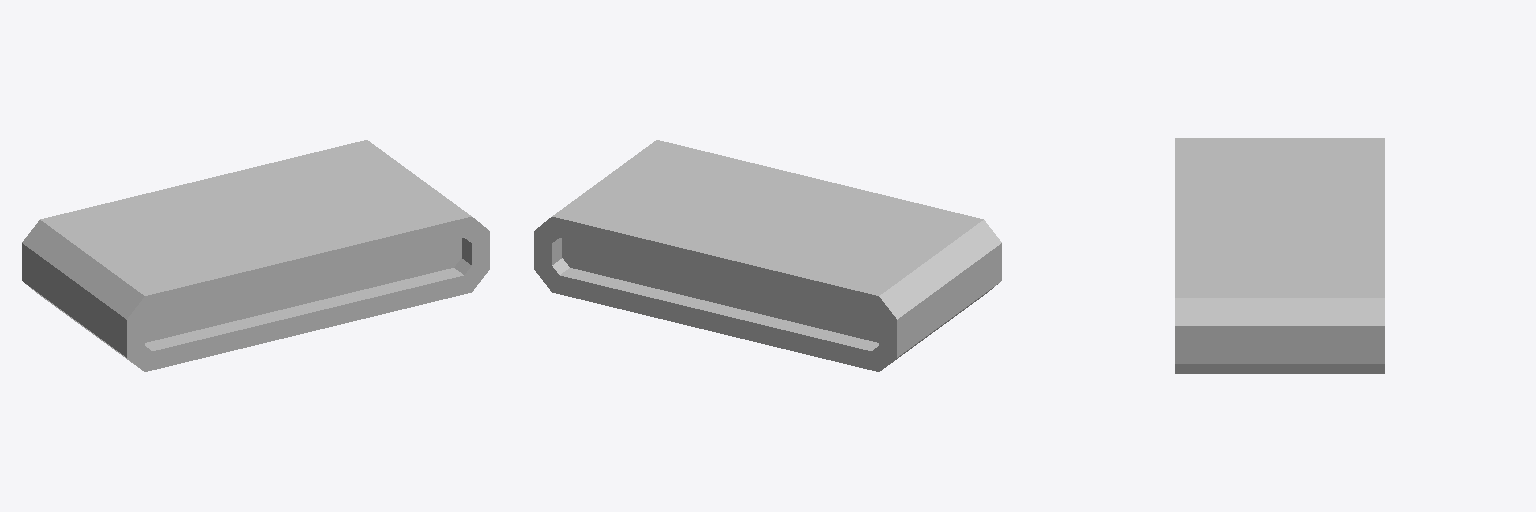
Rendered from conveyor-long-stripe.obj.
3 views of the same model, side by side, from view 1: azimuth 30°, elevation 25°; view 2: azimuth 150°, elevation 25°; view 3: azimuth 270°, elevation 25° (orthographic).
Visible parts, largest first — view 1: conveyor-long-stripe; view 2: conveyor-long-stripe; view 3: conveyor-long-stripe.
Boxes of the visible parts, x1,y1,x2,y2 form: conveyor-long-stripe: [22, 140, 489, 371]; conveyor-long-stripe: [534, 140, 1001, 371]; conveyor-long-stripe: [1175, 138, 1384, 373].
Size of the model in its own units: 2 by 0.4 by 1.